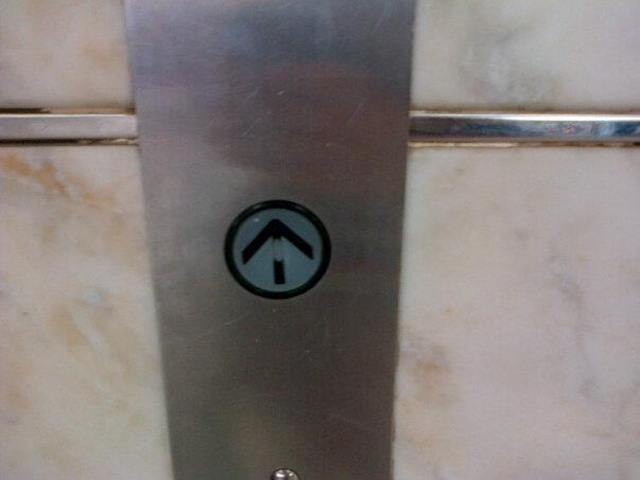up: (221, 197, 333, 302)
